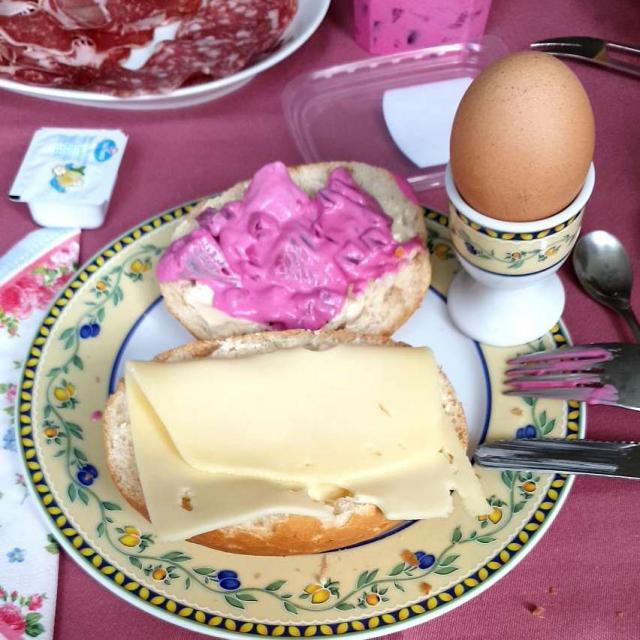bread-white: (111, 157, 479, 551)
cheese: (124, 343, 482, 551)
egg: (449, 55, 594, 221)
mayonnaise: (191, 180, 390, 306)
